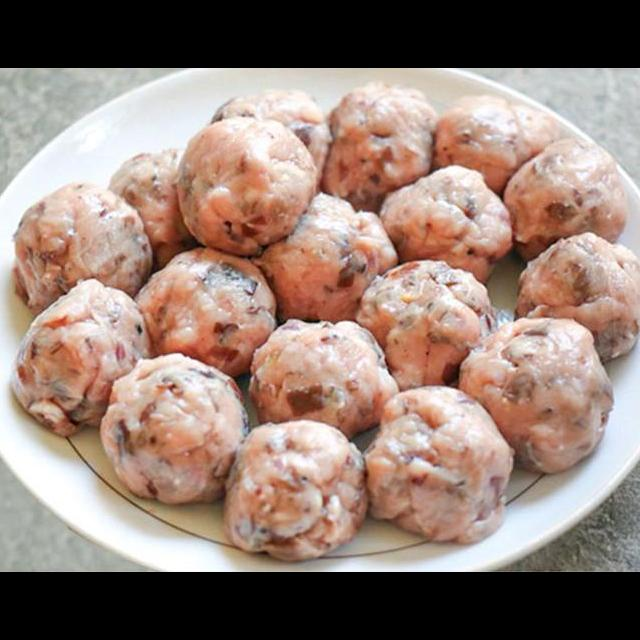vien moc: (350, 379, 518, 553), (454, 308, 619, 477), (92, 347, 257, 515), (0, 275, 153, 442), (240, 189, 409, 337), (213, 412, 374, 564), (166, 112, 320, 265), (236, 312, 406, 446), (125, 242, 284, 378), (348, 256, 499, 393), (8, 177, 161, 308), (375, 156, 520, 288), (507, 226, 640, 365), (495, 134, 634, 262), (317, 82, 444, 214), (424, 90, 567, 199), (102, 144, 199, 268), (210, 88, 336, 181)
